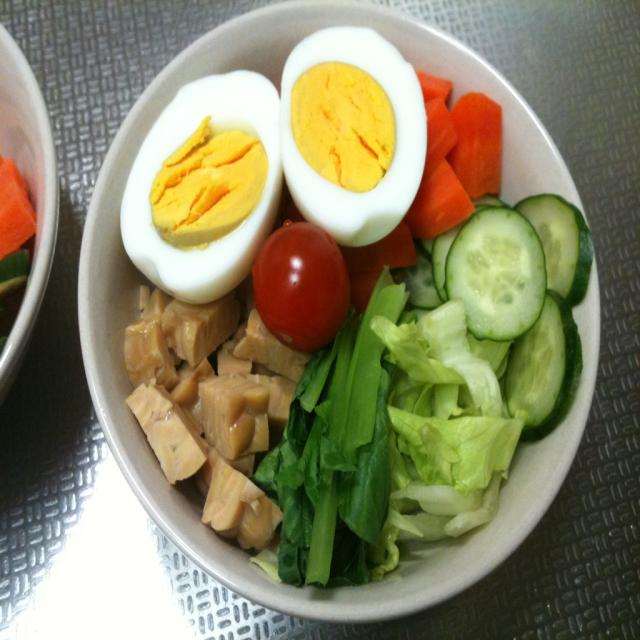Egg: (117, 69, 274, 303), (279, 19, 431, 247)
